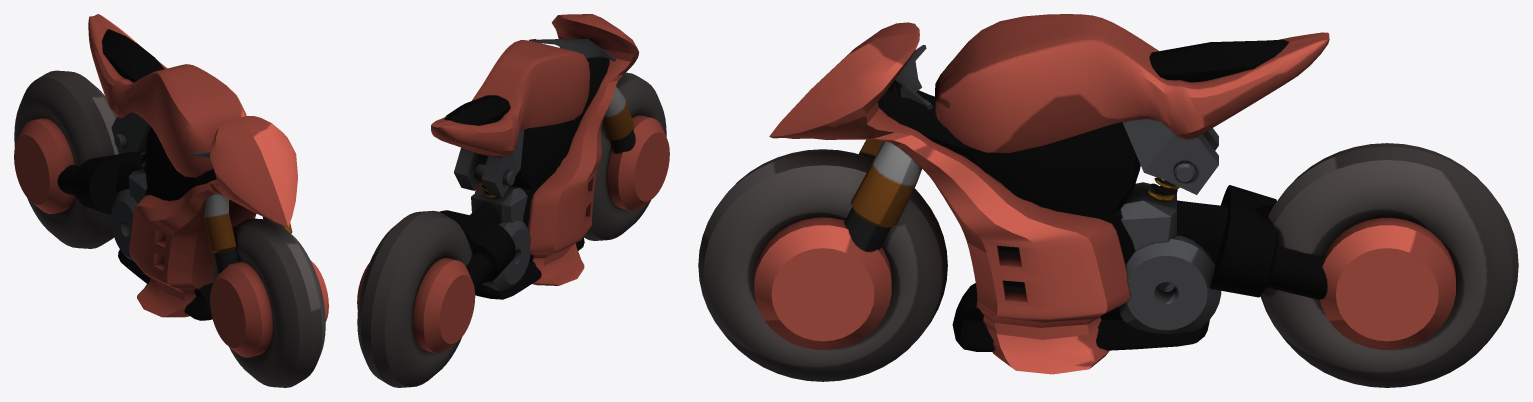
3 views of the same model, side by side, from view 1: azimuth 30°, elevation 25°; view 2: azimuth 150°, elevation 25°; view 3: azimuth 270°, elevation 25° (orthographic). The views are drawn at different scales.
Parts seen in each view (by area): view 1: Bike; view 2: Bike; view 3: Bike.
Boxes of the visible parts, left/top/right/bottom form: Bike: left=14, top=14, right=328, bottom=387; Bike: left=357, top=14, right=669, bottom=387; Bike: left=698, top=14, right=1518, bottom=387.
Size of the model in its own units: 144 by 359 by 742.
1 material, 1 textured.
